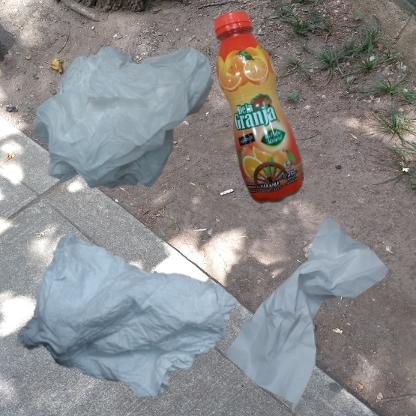bolsa: (10, 10, 278, 249)
botella: (213, 10, 305, 206)
papel: (10, 213, 284, 416), (213, 213, 400, 416)
